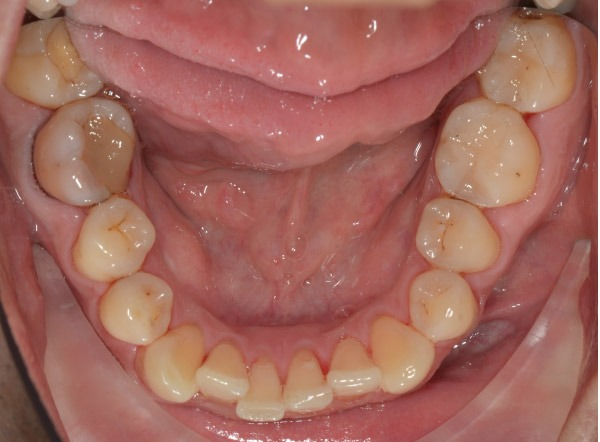LL1BC_decay: (411, 271, 477, 337)
LL1M_healthy: (436, 101, 538, 203)
LL2BC_healthy: (417, 200, 500, 270)
LL2M_decay: (495, 22, 575, 108)
LLCI_healthy: (284, 354, 330, 412)
LLC_healthy: (374, 319, 434, 389)
LLLI_healthy: (331, 340, 380, 394)
LR1BC_decay: (104, 275, 172, 341)
LR1M_decay: (31, 95, 133, 203)
LR2BC_decay: (79, 199, 153, 277)
LR2M_decay: (19, 27, 100, 103)
LRCI_healthy: (243, 359, 283, 419)
LRC_healthy: (153, 328, 202, 402)
LRLI_healthy: (204, 342, 246, 398)
